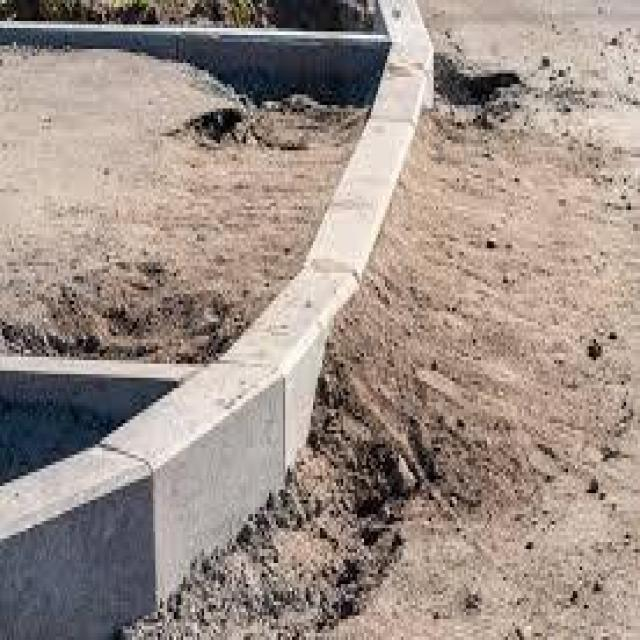curb: (1, 329, 341, 632), (291, 217, 388, 383), (341, 112, 438, 246), (380, 6, 451, 92)
